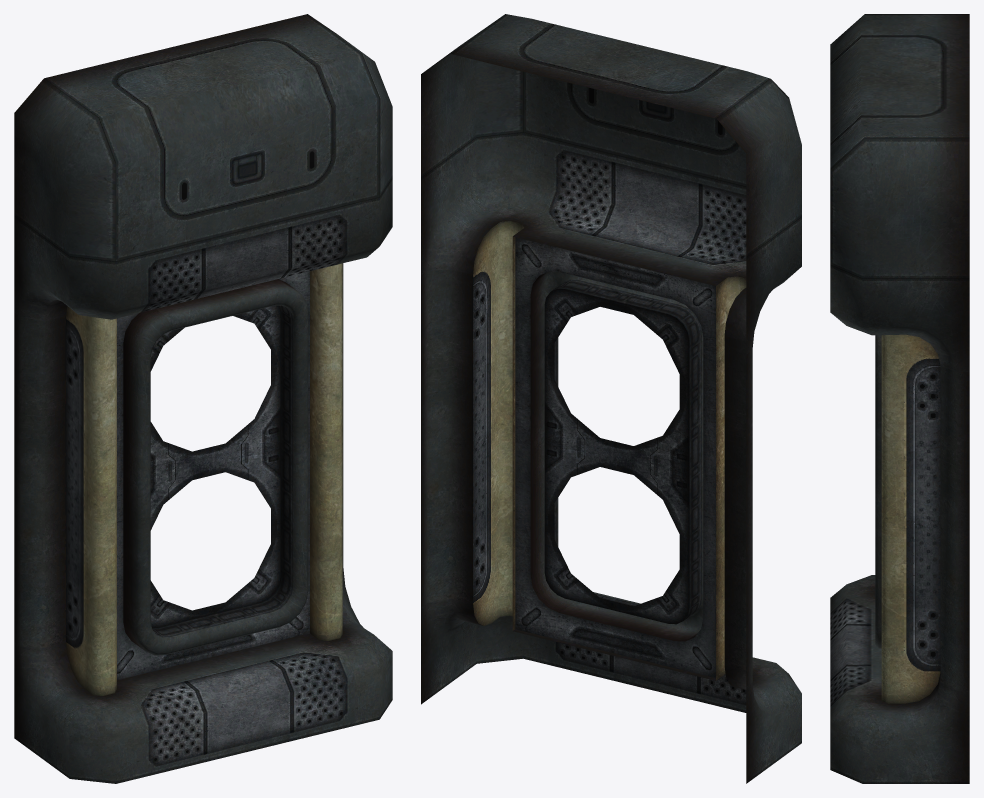
The model's file is living_area_ventilation_fan_addon.dae.
3 renders of one model, left to right at view 1: azimuth 30°, elevation 25°; view 2: azimuth 150°, elevation 25°; view 3: azimuth 270°, elevation 25°, orthographic. The views are drawn at different scales.
Visible parts, largest first — view 1: polySurface36, pCube8; view 2: polySurface36, pCube8; view 3: polySurface36, pCube8.
Part boxes in pixels (x1,y1,x2,y2): polySurface36: (14,14,392,783); pCube8: (117,271,309,680); polySurface36: (421,14,801,783); pCube8: (515,237,715,678); polySurface36: (830,14,969,783); pCube8: (875,335,881,648).
Size of the model in its own units: 2.59 by 5 by 1.
Materials: 1 (1 with a texture image).
